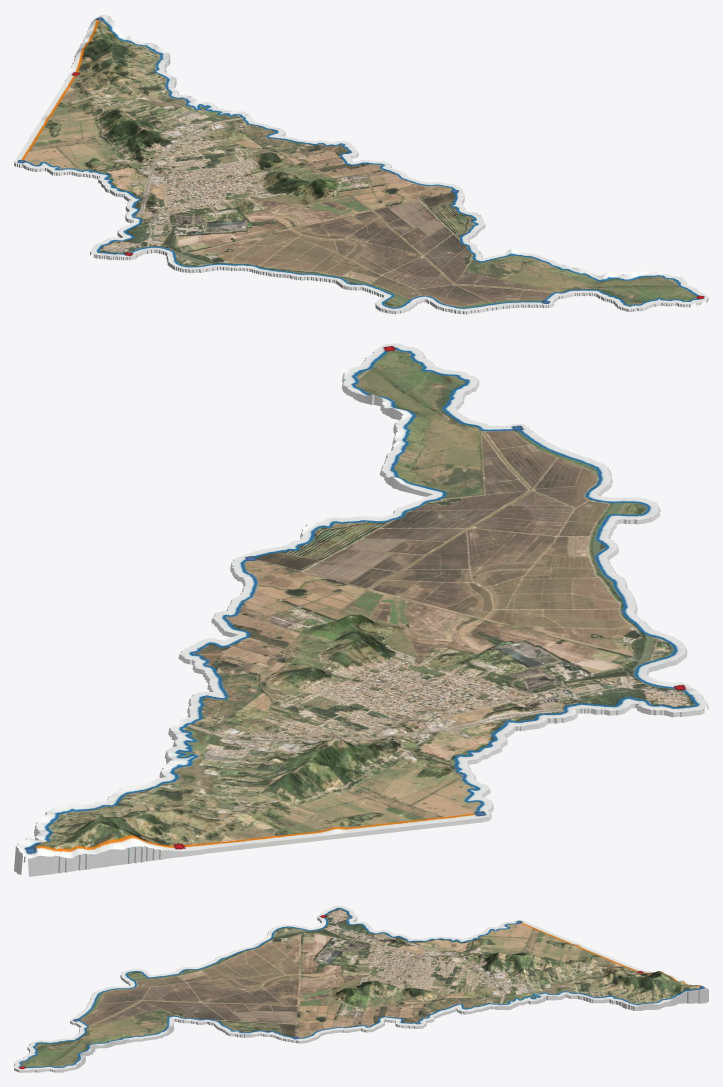
3 renders of one model, top to bottom at view 1: azimuth 30°, elevation 25°; view 2: azimuth 150°, elevation 25°; view 3: azimuth 270°, elevation 25°, orthographic. The views are drawn at different scales.
Bounding box in the file's own units: 0.9992 × 0.0452 × 1.78.
Materials: 1 (1 with a texture image).
